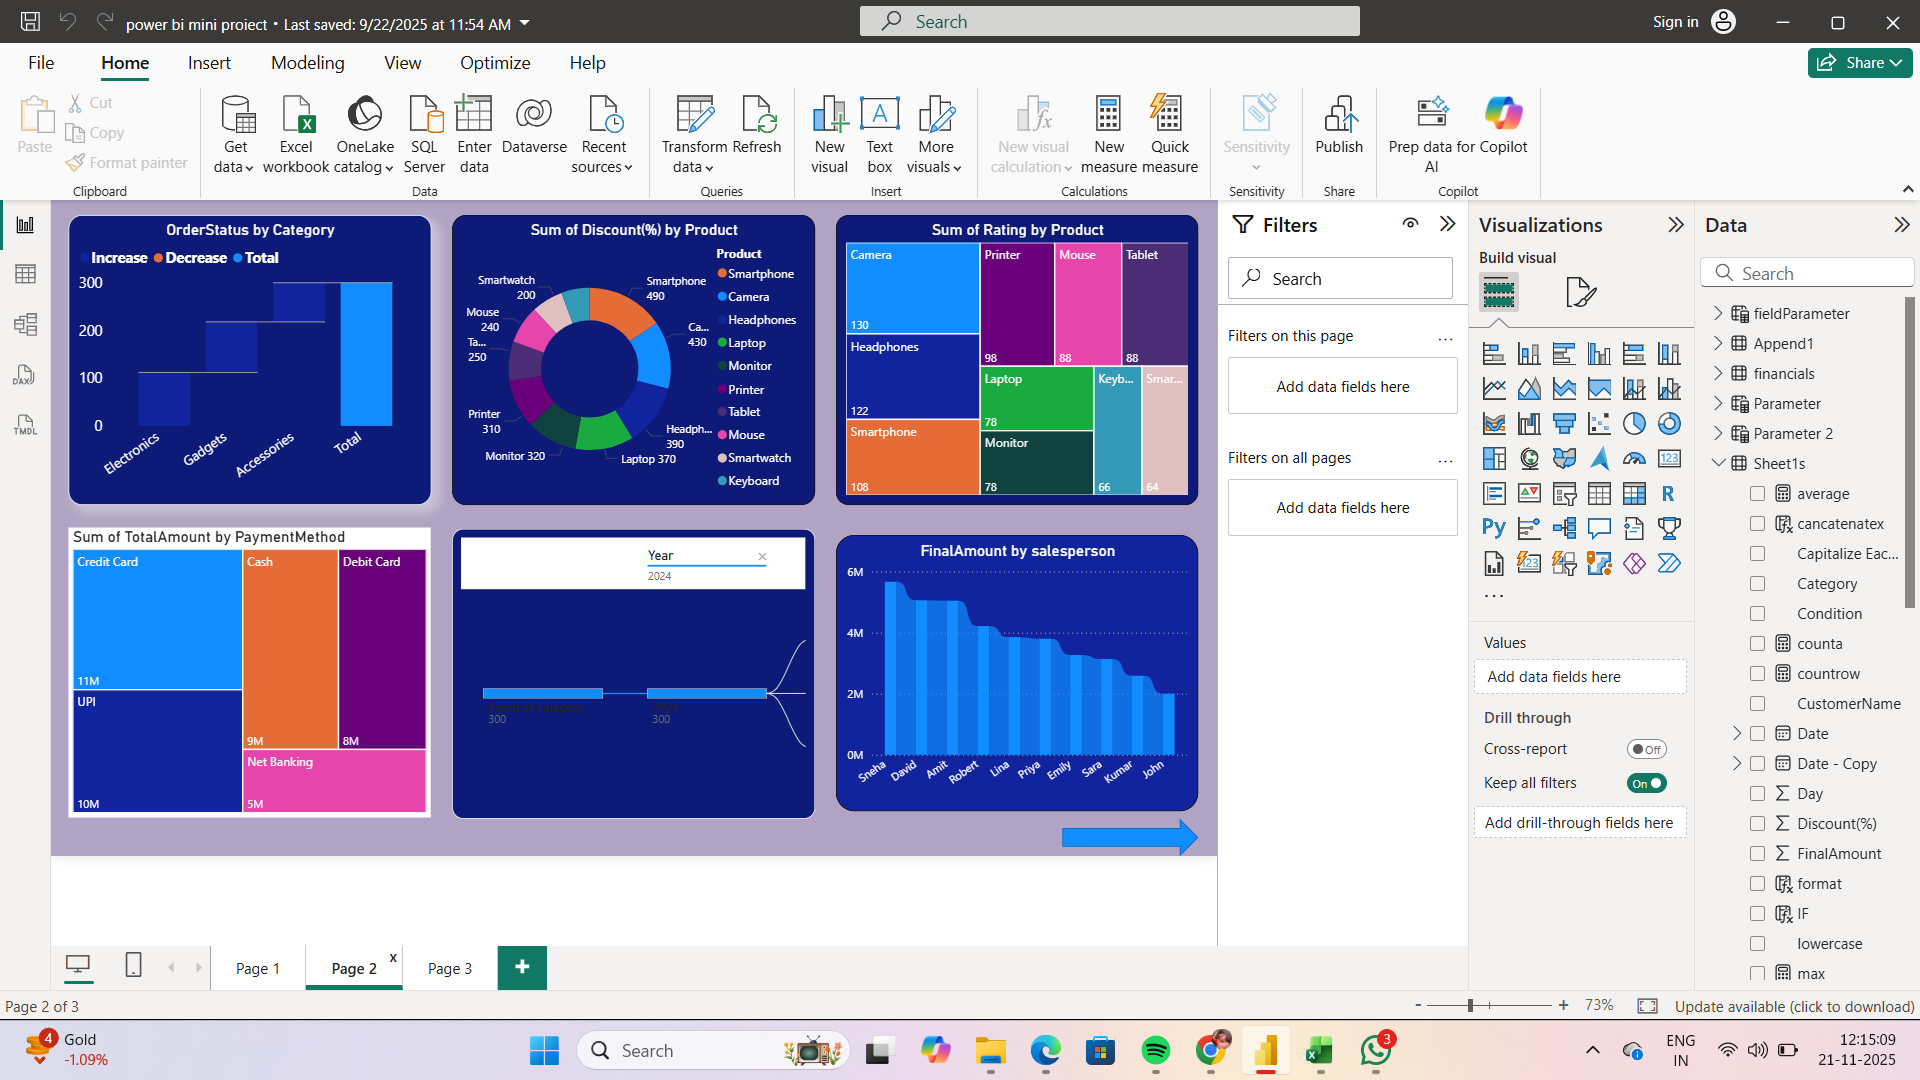

The dashboard page shown, as its layout file describes it:
{"tool":"powerbi","page":{"name":"Page 2","canvas":[1280,720],"ordinal":1},"visuals":[{"type":"waterfallChart","fields":{"Y":["CountNonNull(Sheet1s.OrderStatus)"],"Category":["Sheet1s.Category"]},"box":[18.7,17,398.3,318.3],"z":0},{"type":"donutChart","fields":{"Category":["Append1.Product"],"Y":["Sum(Append1.Discount(%))"]},"box":[440.9,17,398.3,318.3],"z":1000},{"type":"treemap","fields":{"Values":["Sum(Append1.Rating)"],"Group":["Append1.Product"]},"box":[861.8,16.5,397.9,318.4],"z":2000},{"type":"decompositionTreeVisual","fields":{"ExplainBy":["Sheet1s.Date - Copy.Variation.Date Hierarchy.Year","Sheet1s.Region"],"Analyze":["CountNonNull(Sheet1s.Category)"]},"box":[441,361,398,318],"z":3000},{"type":"shape","box":[1110.1,679.2,149.6,41.2],"z":4000},{"type":"treemap","fields":{"Group":["Sheet1s.PaymentMethod"],"Values":["Sum(Sheet1s.TotalAmount)"]},"box":[19.2,359.5,397.9,318.4],"z":5000},{"type":"ribbonChart","title":" FinalAmount by salesperson","fields":{"Y":["Sum(Sheet1s.FinalAmount)"],"Category":["Sheet1s.SalesPerson"]},"box":[861.8,367.8,397.9,303.3],"z":6000}]}

Visuals, with their boxes on the page's 1280x720 design canvas (x1, y1, x2, y2). These are canvas units, not pixel positions in the 1920x1080 screenshot, which may show the page scaled, cropped or inside an application window:
waterfallChart - CountNonNull(Sheet1s.OrderStatus) x Sheet1s.Category: <box>19,17,417,335</box>
donutChart - Append1.Product x Sum(Append1.Discount(%)): <box>441,17,839,335</box>
treemap - Sum(Append1.Rating) x Append1.Product: <box>862,16,1260,335</box>
decompositionTreeVisual - Sheet1s.Date - Copy.Variation.Date Hierarchy.Year x Sheet1s.Region: <box>441,361,839,679</box>
shape: <box>1110,679,1260,720</box>
treemap - Sheet1s.PaymentMethod x Sum(Sheet1s.TotalAmount): <box>19,360,417,678</box>
" FinalAmount by salesperson" ribbonChart: <box>862,368,1260,671</box>
